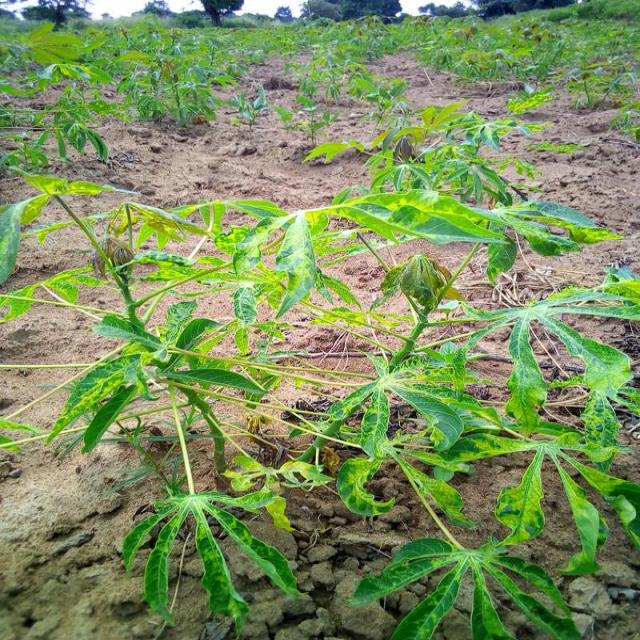cassava leaf: (274, 211, 318, 320)
